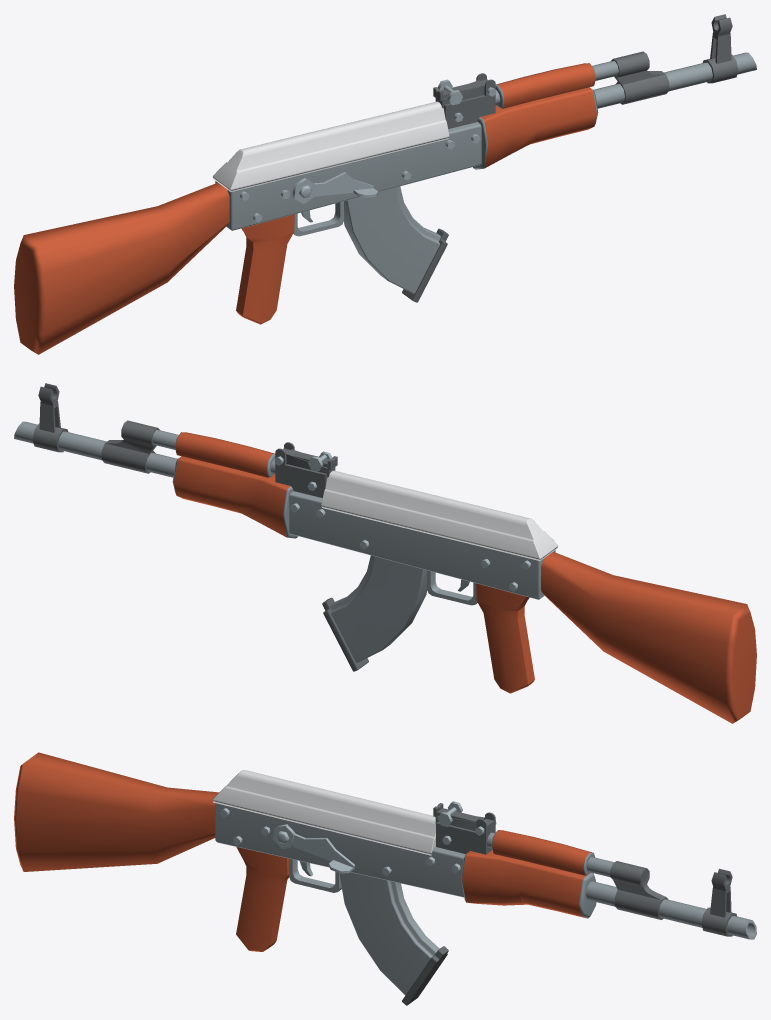
3 views of the same model, one above another, from view 1: azimuth 30°, elevation 25°; view 2: azimuth 150°, elevation 25°; view 3: azimuth 330°, elevation 25° (orthographic).
Visible parts, largest first — view 1: rifle_001, rifle_magazine_001; view 2: rifle_001, rifle_magazine_001; view 3: rifle_001, rifle_magazine_001.
Part boxes in pixels (left/top/right/bottom): rifle_001: left=14, top=14, right=756, bottom=354; rifle_magazine_001: left=343, top=186, right=448, bottom=302; rifle_001: left=14, top=383, right=756, bottom=723; rifle_magazine_001: left=322, top=555, right=427, bottom=671; rifle_001: left=14, top=752, right=756, bottom=951; rifle_magazine_001: left=339, top=872, right=448, bottom=1005.
Size of the model in its own units: 1.76 by 0.4744 by 0.1356.
1 material, 1 textured.
